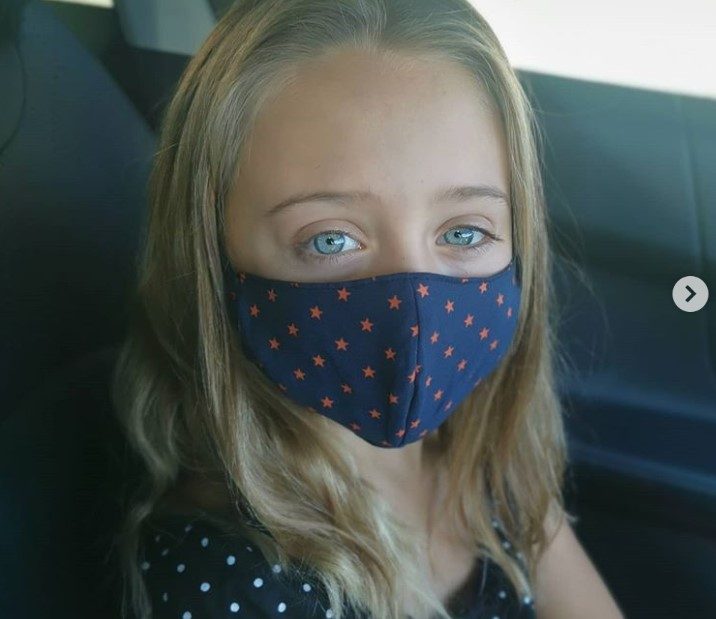face_with_mask: (177, 13, 542, 452)
